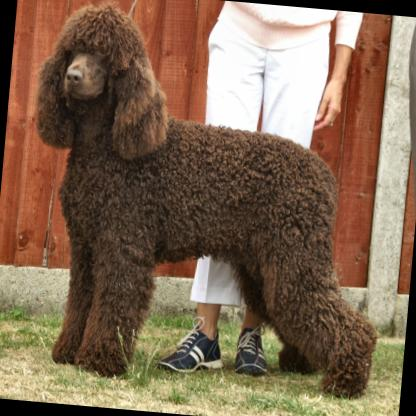Irish_water_spaniel: (10, 0, 403, 401)
